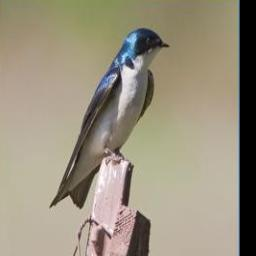Swallow: (47, 26, 171, 211)
